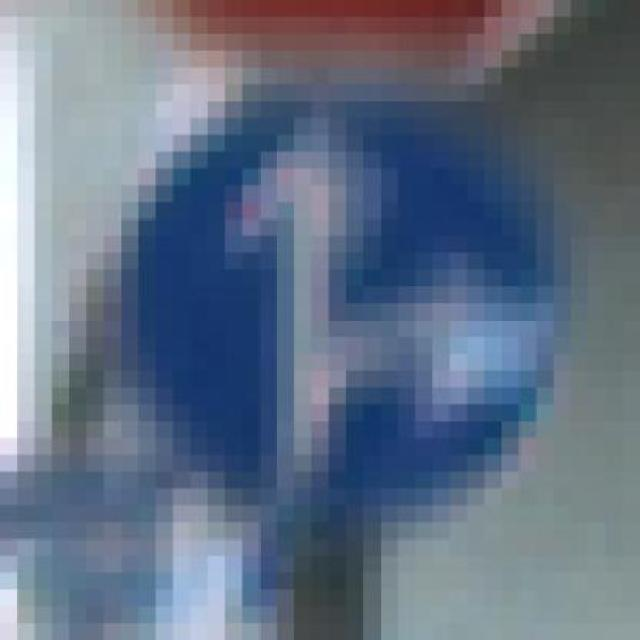Go Straight or Turn Right: (86, 84, 588, 522)
